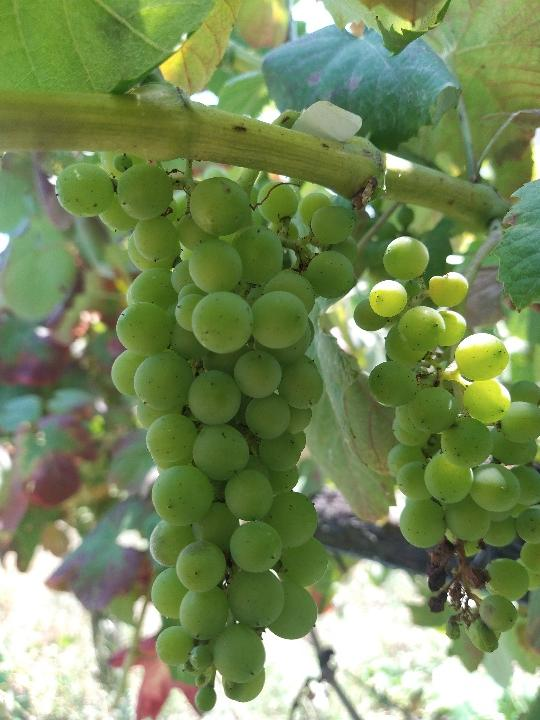grape: (54, 152, 361, 716), (349, 231, 537, 658)
